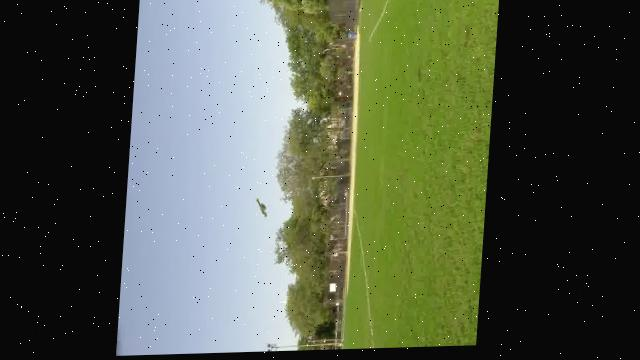drone: (248, 196, 275, 223)
